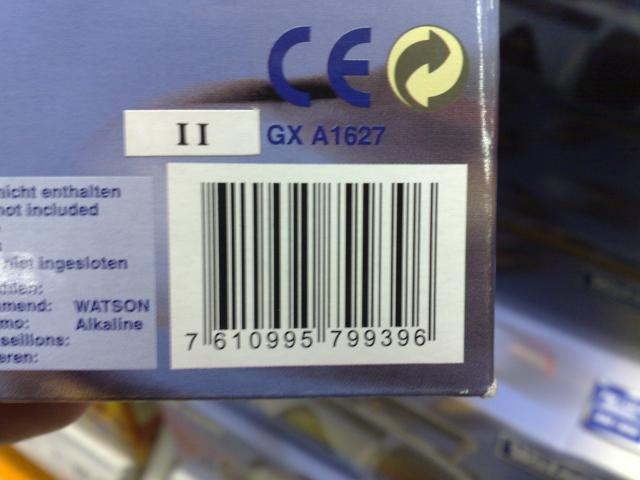Barcode: (175, 169, 462, 363)
